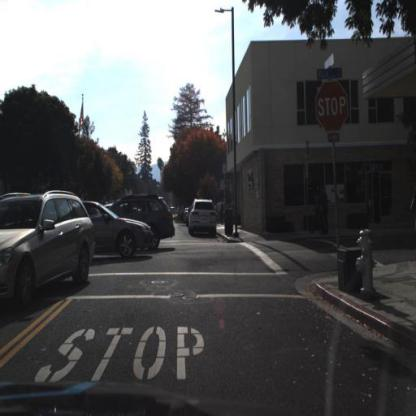car: (1, 190, 97, 307), (82, 200, 156, 268), (84, 200, 158, 260), (113, 194, 180, 250)
pedestrian: (408, 180, 416, 269), (319, 182, 331, 238), (309, 187, 320, 236)
